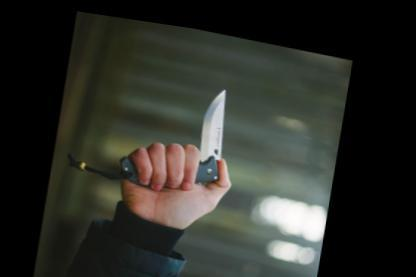knife: (176, 64, 247, 183)
